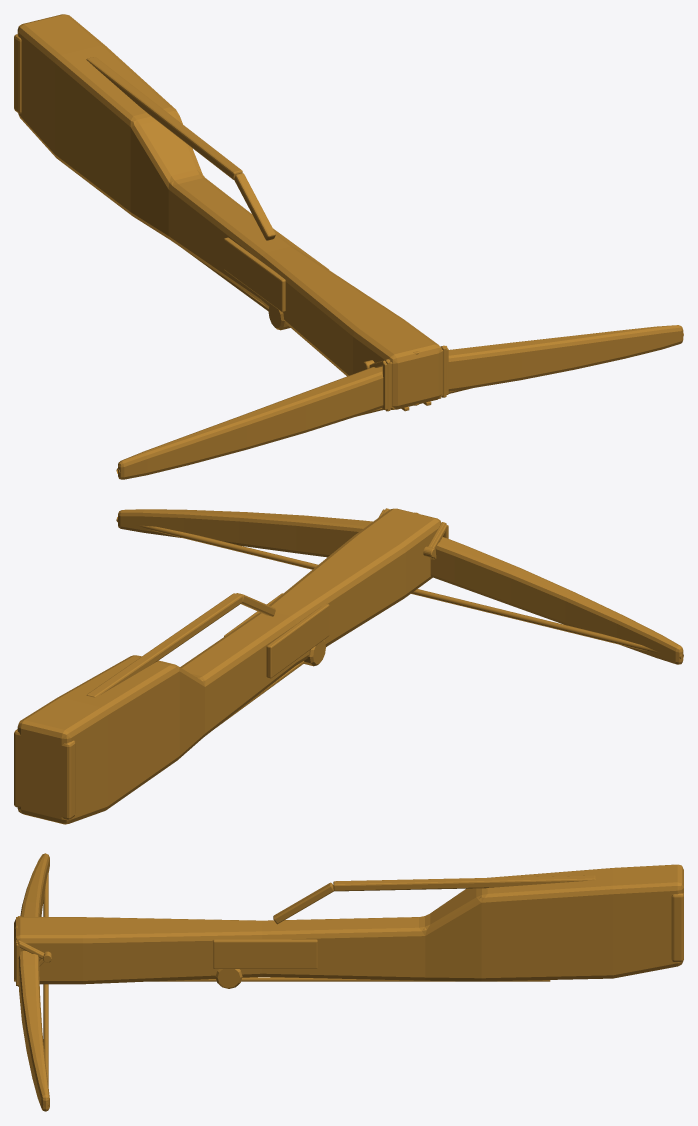
File: AuxiliaReinforcedCrossbow.fbx
3 views of the same model, one above another, from view 1: azimuth 30°, elevation 25°; view 2: azimuth 150°, elevation 25°; view 3: azimuth 270°, elevation 25° (orthographic). The views are drawn at different scales.
Visible parts, largest first — view 1: AuxiliaReinforcedCrossbow_GameExport; view 2: AuxiliaReinforcedCrossbow_GameExport; view 3: AuxiliaReinforcedCrossbow_GameExport.
Boxes of the visible parts, x1,y1,x2,y2 form: AuxiliaReinforcedCrossbow_GameExport: [14, 14, 683, 479]; AuxiliaReinforcedCrossbow_GameExport: [14, 508, 683, 824]; AuxiliaReinforcedCrossbow_GameExport: [14, 853, 683, 1111].
Size of the model in its own units: 27.75 by 32.1 by 6.2.
